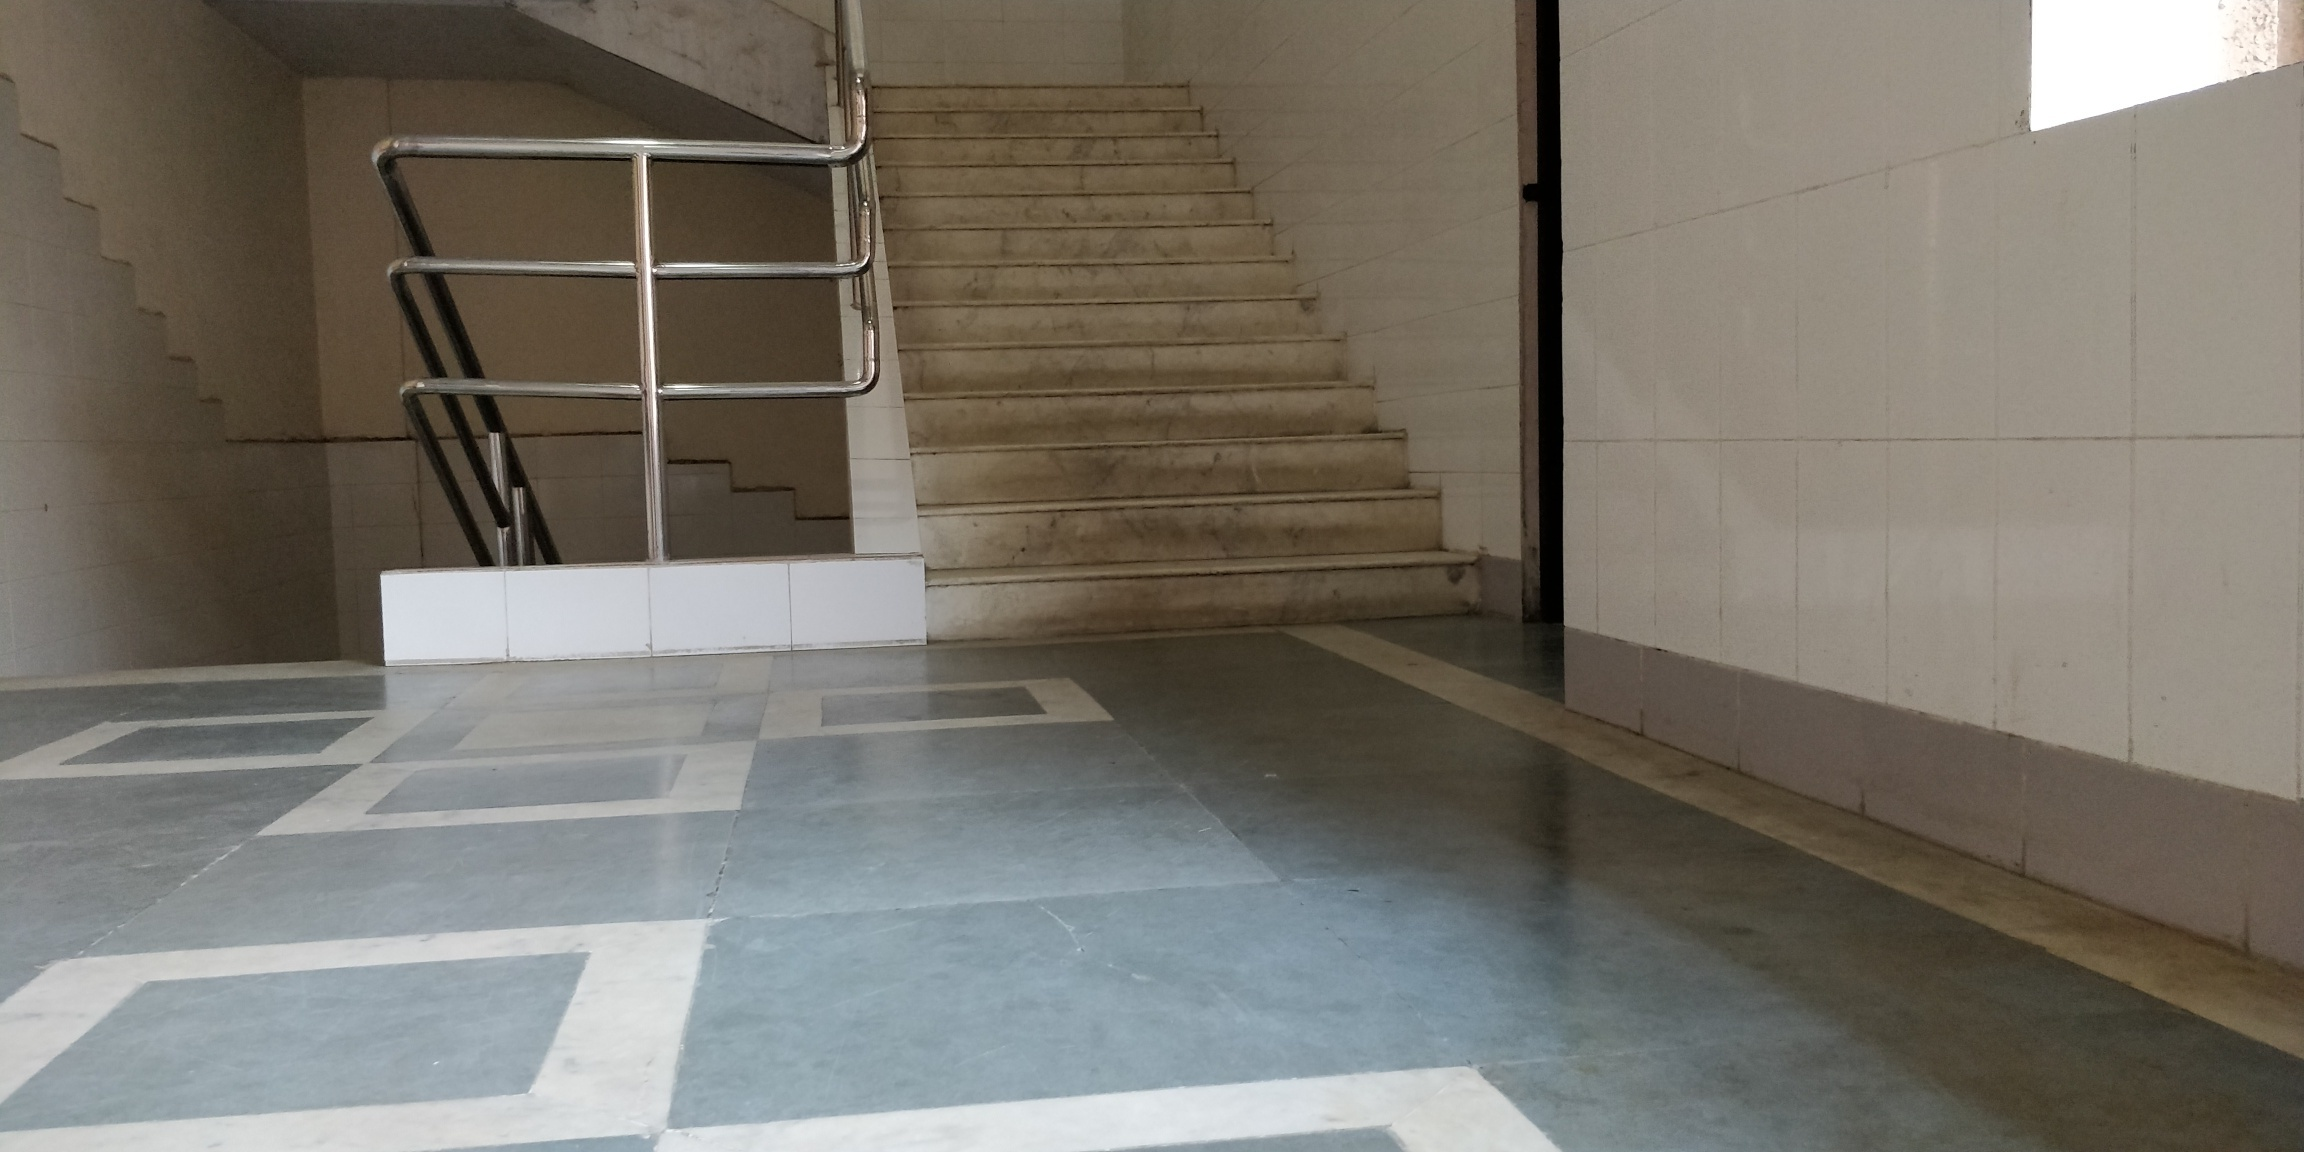stairs_up: (846, 71, 1497, 669)
